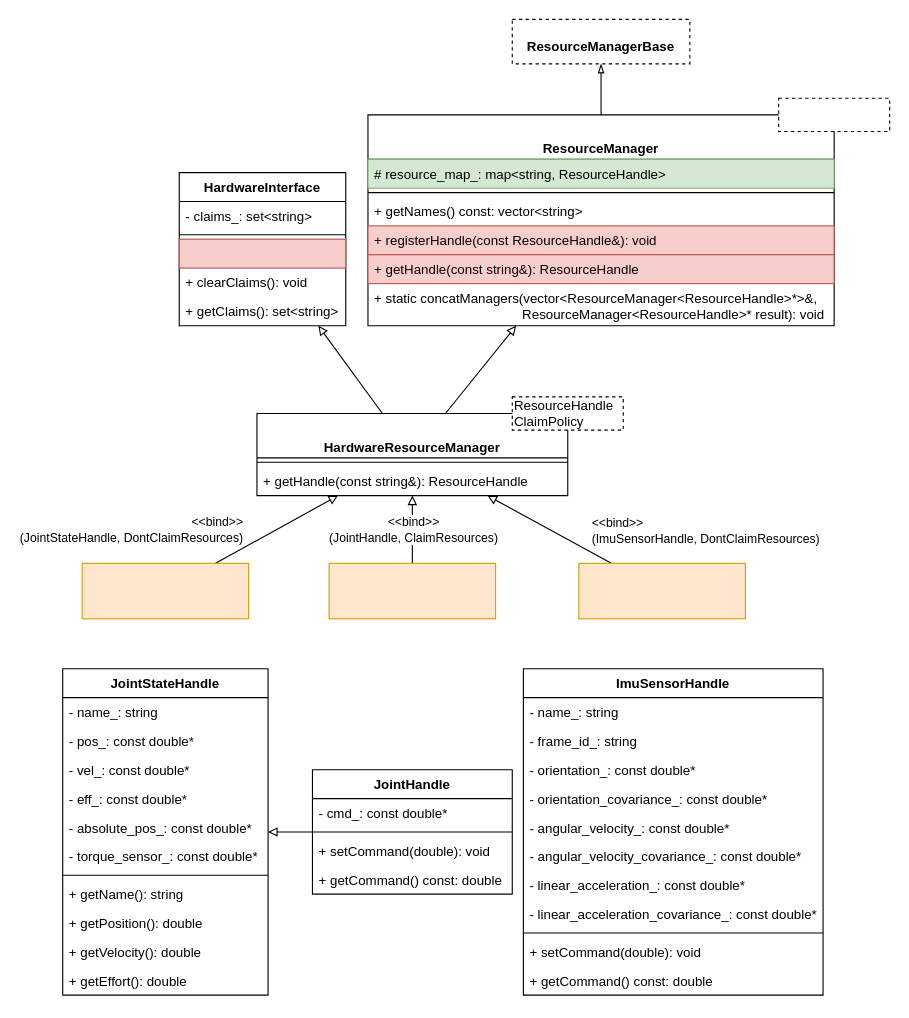
The diagram is 909 pixels wide and 1018 high, and some of its shapes have lost their labels. Here are the shapes that lost their labels. From the top down, the centre of each, then its label:
At (834,114): "ResourceHandle".
At (262,253): "+ virtual claim(string): void".
At (165,590): "«interface» JointStateInterface".
At (412,590): "«interface» JointCommandInterface".
At (661,590): "«interface» ImuSensorInterface".
